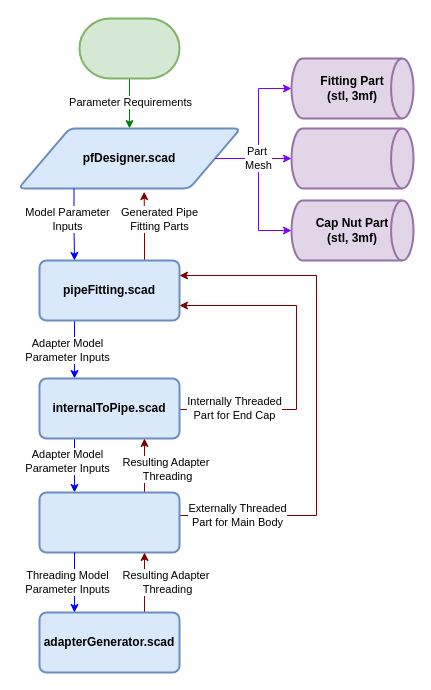
This 431x690 diagram has some shape labels left out. The box of each missing label's shape, as (x1, y1, x2, y2) in pixels:
externalToPipe.scad: (38, 491, 180, 553)
Gasket Part (stl, 3mf): (290, 127, 414, 189)
User: (78, 17, 180, 79)
